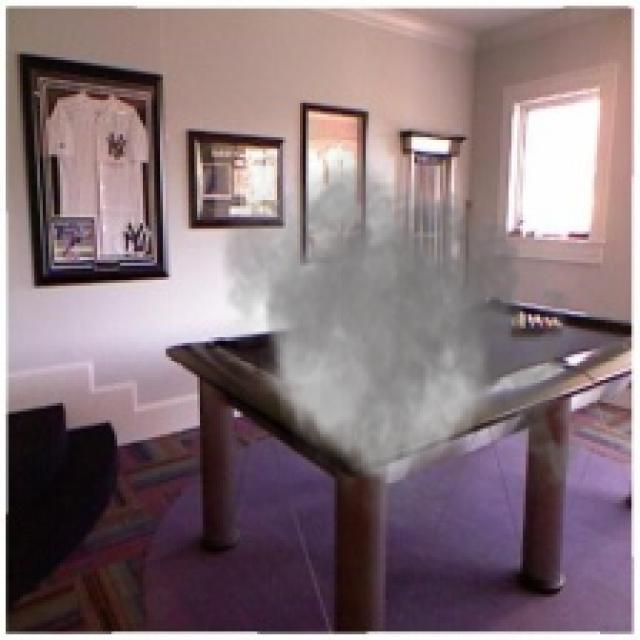Smoke: (205, 135, 598, 554)
